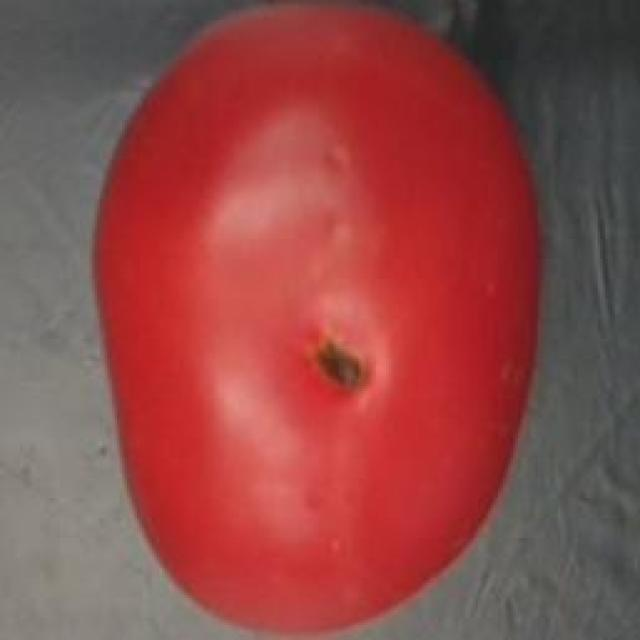overripe tomato: (85, 7, 553, 635)
